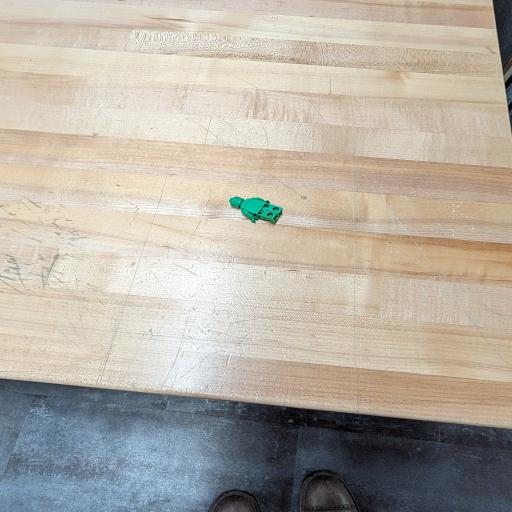Minifig: (229, 197, 282, 223)
